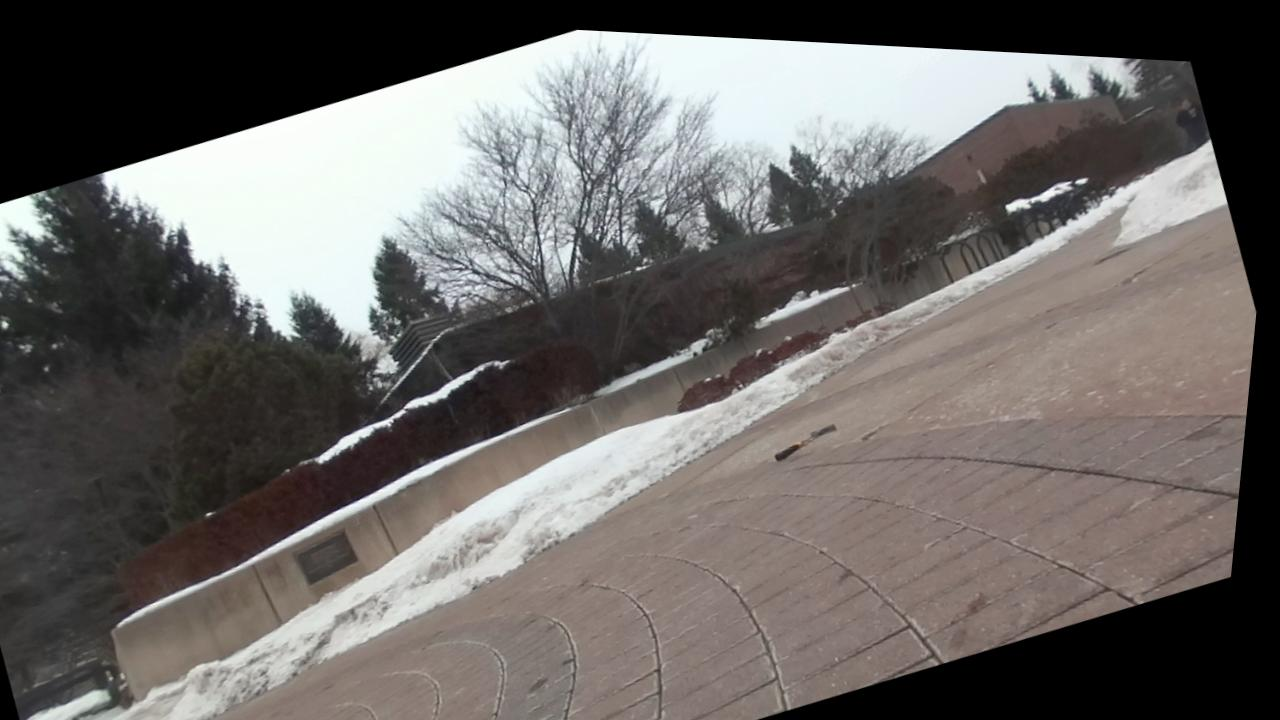pick: (774, 425, 835, 460)
